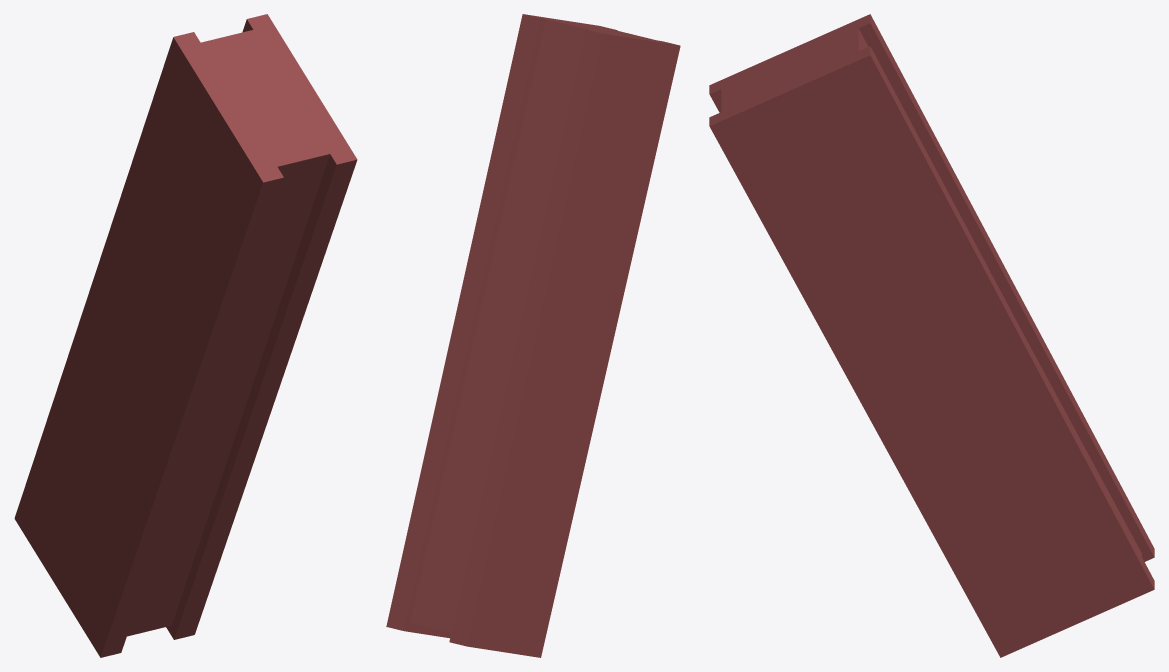
The model's file is WM0_Magazine_LVL1.FBX.
3 views of the same model, side by side, from view 1: azimuth 30°, elevation 25°; view 2: azimuth 150°, elevation 25°; view 3: azimuth 270°, elevation 25° (orthographic). The views are drawn at different scales.
Parts seen in each view (by area): view 1: WM0_Magazine_LVL1; view 2: WM0_Magazine_LVL1; view 3: WM0_Magazine_LVL1.
Boxes of the visible parts, x1,y1,x2,y2 form: WM0_Magazine_LVL1: [14, 14, 357, 657]; WM0_Magazine_LVL1: [386, 14, 680, 657]; WM0_Magazine_LVL1: [709, 14, 1154, 657].
Bounding box in the file's own units: 2.76 × 18.91 × 12.65.
